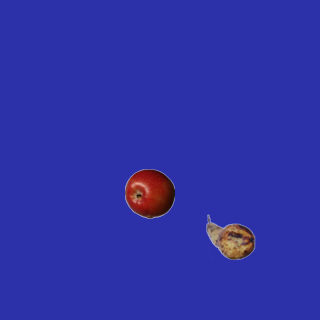Apple Braeburn: (124, 168, 174, 218)
Pear Abate: (205, 212, 255, 262)
